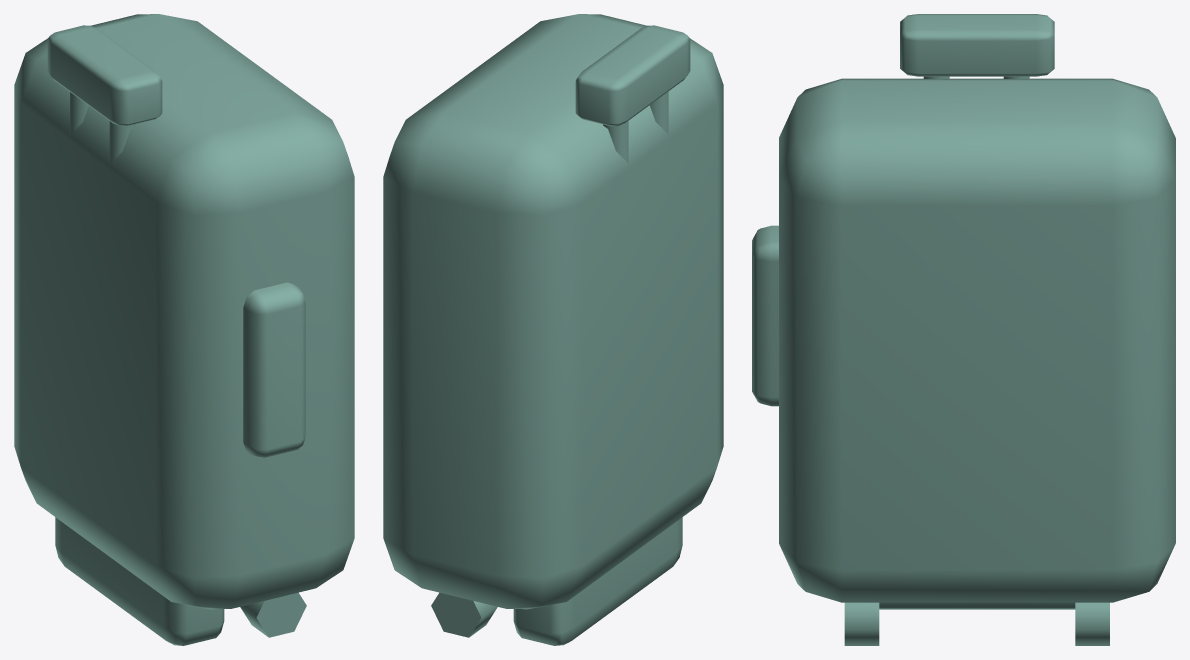
The model's file is ATLAS_PR_LUGGAGE_A.fbx.
3 renders of one model, left to right at view 1: azimuth 30°, elevation 25°; view 2: azimuth 150°, elevation 25°; view 3: azimuth 270°, elevation 25°, orthographic.
Parts seen in each view (by area): view 1: PR_LUGGAGE_A; view 2: PR_LUGGAGE_A; view 3: PR_LUGGAGE_A.
Boxes of the visible parts, x1,y1,x2,y2 form: PR_LUGGAGE_A: (14,14,354,645); PR_LUGGAGE_A: (383,14,723,645); PR_LUGGAGE_A: (752,14,1175,645).
Bounding box in the file's own units: 33.35 × 89.17 × 60.83.
